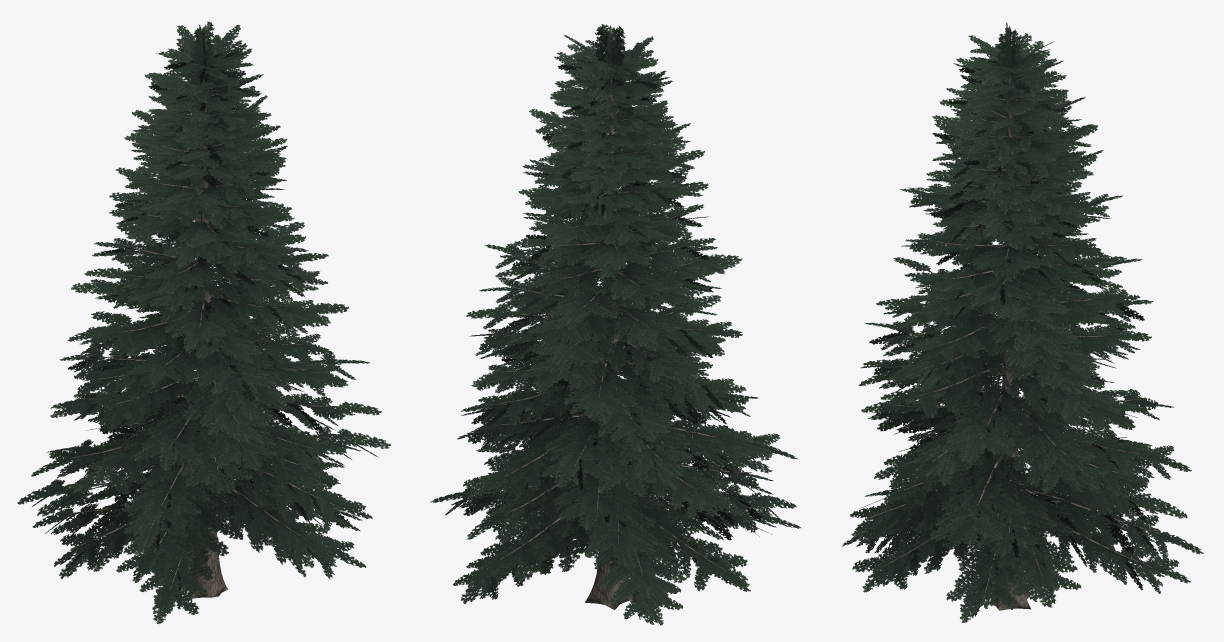
The model's file is pine.glb.
3 views of the same model, side by side, from view 1: azimuth 30°, elevation 25°; view 2: azimuth 150°, elevation 25°; view 3: azimuth 270°, elevation 25° (orthographic).
Parts seen in each view (by area): view 1: leaves, bark; view 2: leaves, bark; view 3: leaves, bark.
Boxes of the visible parts, x1,y1,x2,y2 form: leaves: [17, 21, 390, 623]; bark: [56, 24, 345, 598]; leaves: [430, 24, 801, 625]; bark: [465, 25, 757, 609]; leaves: [842, 22, 1203, 622]; bark: [870, 26, 1159, 610].
Size of the model in its own units: 6.07 by 10.05 by 5.88.
2 materials, 2 textured.
